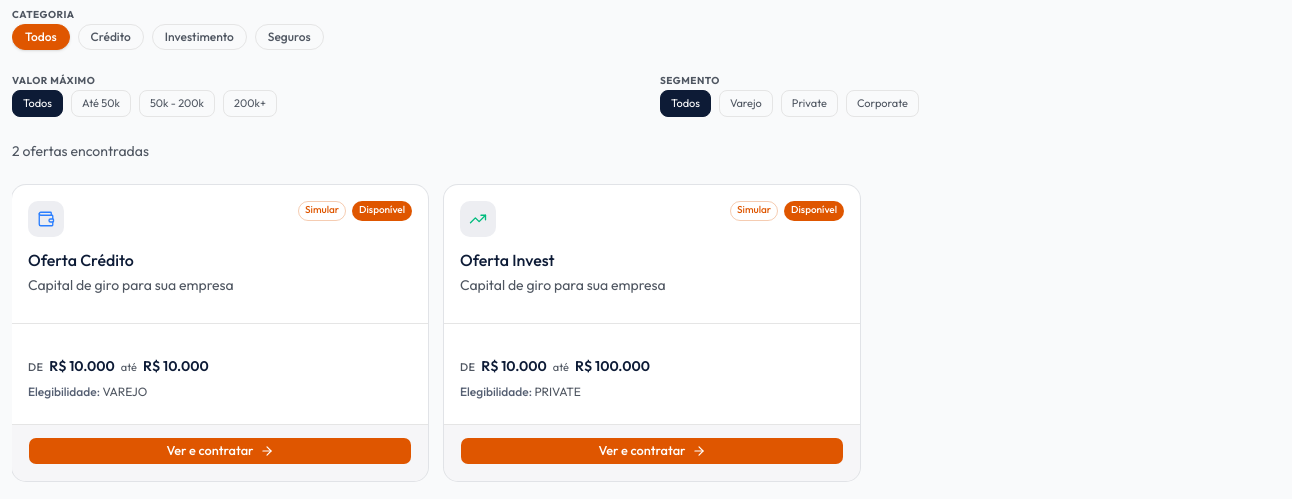
Scenario: OfferList › Rendering and filters › displays empty state when no filters match
// Impossible combination: Credit Category + Private Segment
Step 1. Click the button "Crédito" → (111, 37), box 78,24 -> 144,50
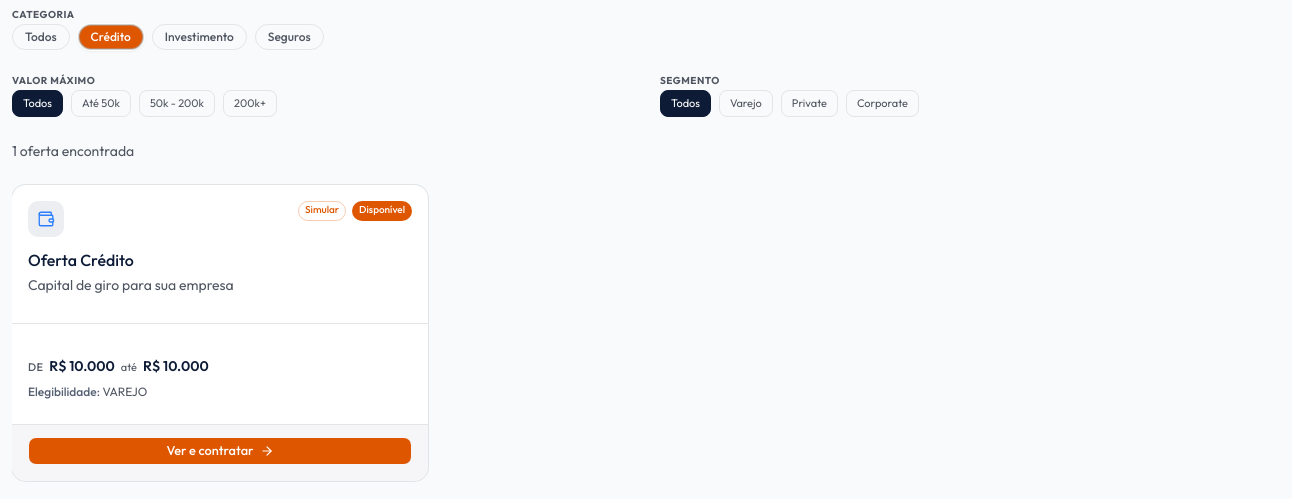
Step 2. Click the button "Private" → (809, 103), box 781,90 -> 838,116
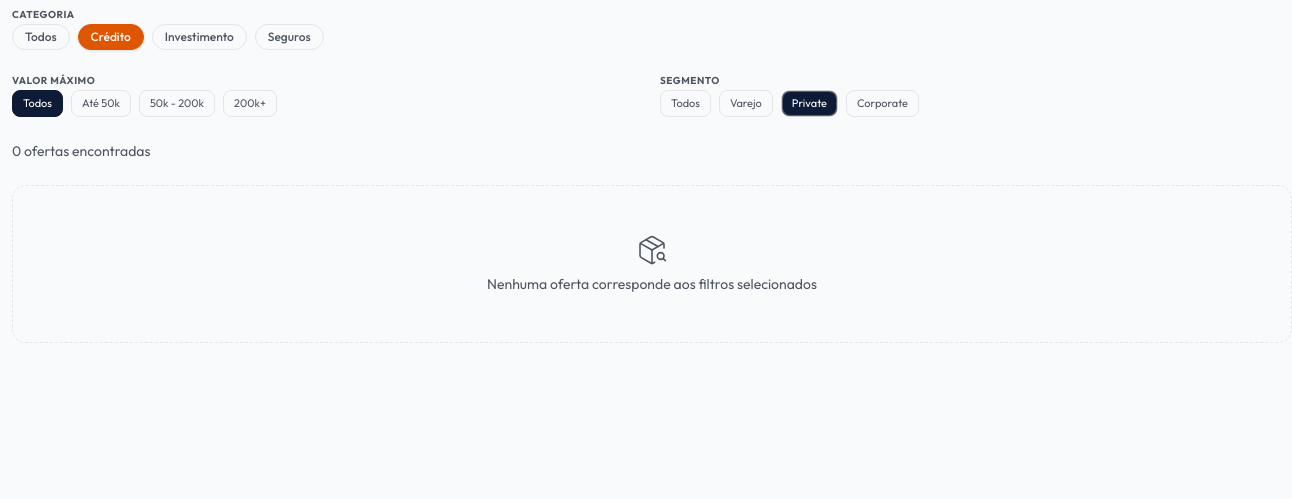
Expected: the text "Nenhuma oferta corresponde aos filtros selecionados" is shown, 487,274 -> 817,294
